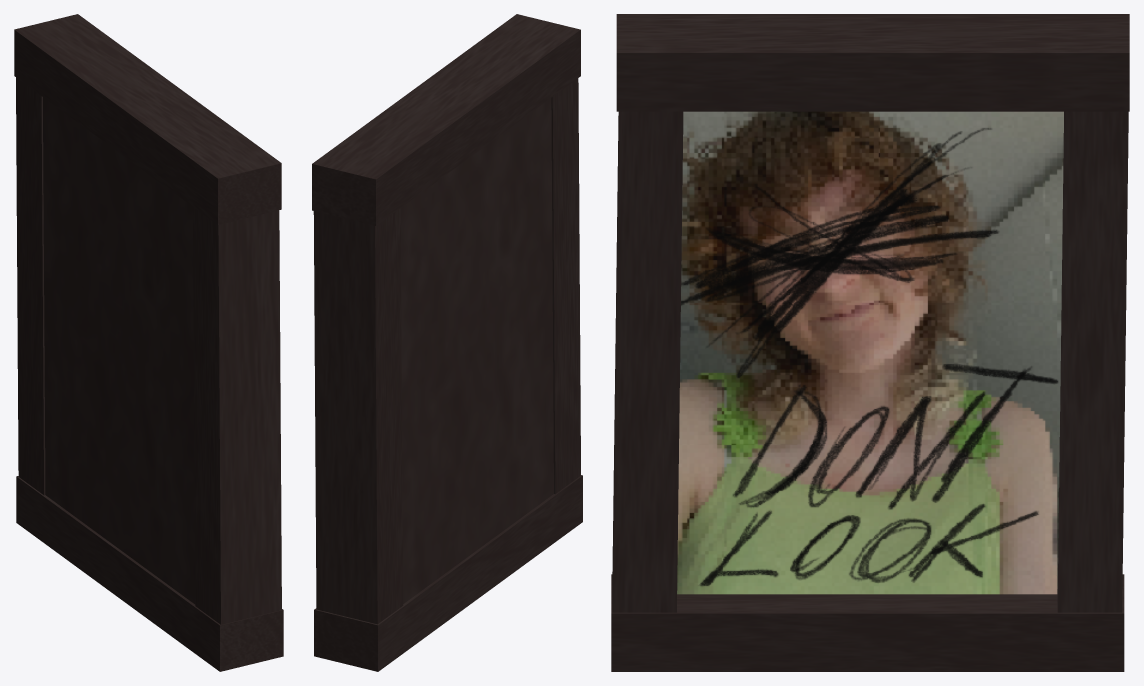
File: pictureframe.fbx
3 views of the same model, side by side, from view 1: azimuth 30°, elevation 25°; view 2: azimuth 150°, elevation 25°; view 3: azimuth 270°, elevation 25° (orthographic). The views are drawn at different scales.
Visible parts, largest first — view 1: Cube.002; view 2: Cube.002; view 3: Cube.002.
Part boxes in pixels (x1,y1,x2,y2): Cube.002: [14, 14, 283, 671]; Cube.002: [312, 14, 582, 671]; Cube.002: [611, 14, 1129, 671].
Size of the model in its own units: 28.36 by 209 by 159.
Materials: 1 (1 with a texture image).
